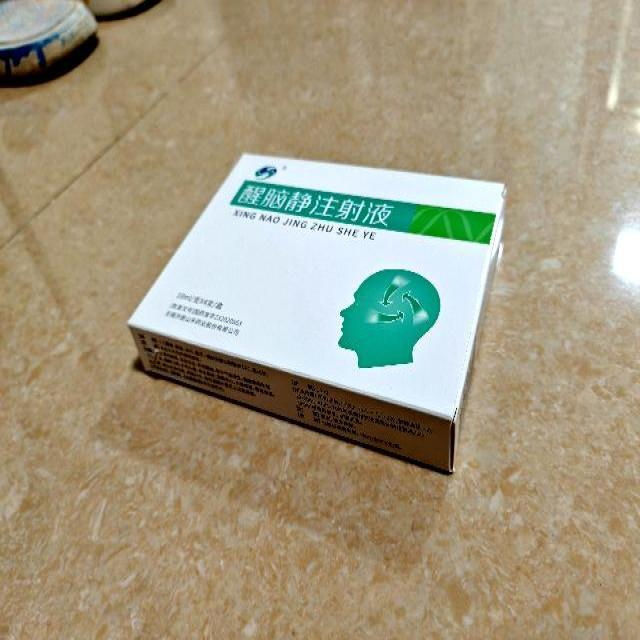box: (128, 153, 506, 476)
